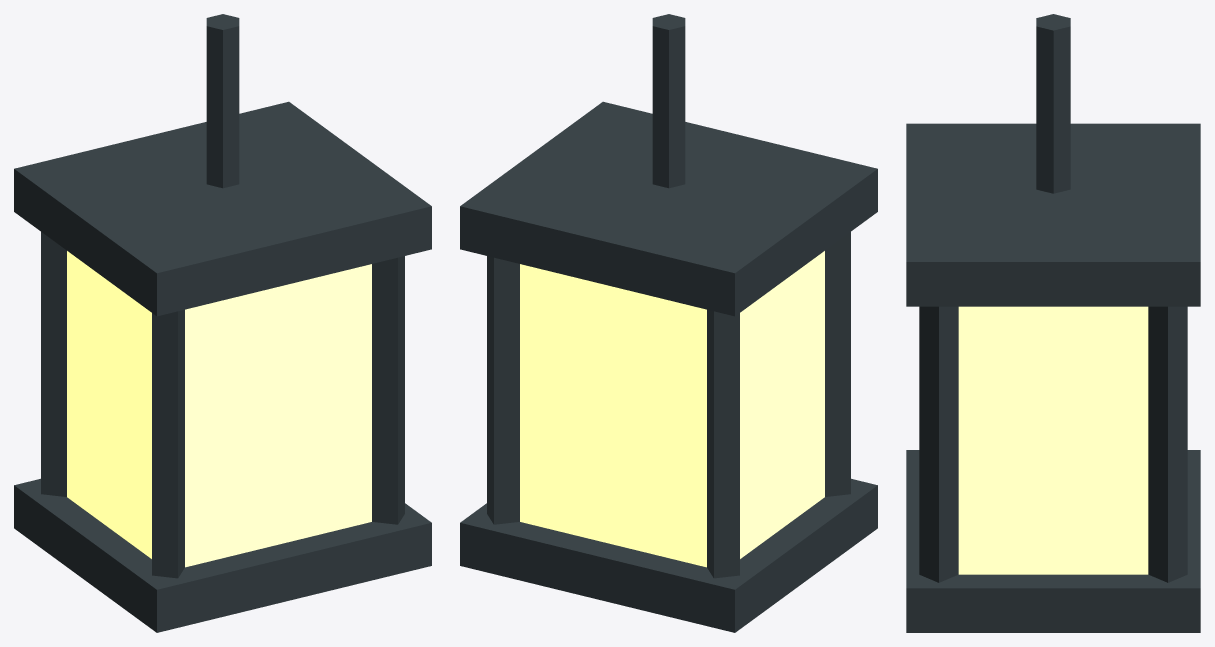
The model's file is NPC_Hand_04_Lantern.glb.
3 views of the same model, side by side, from view 1: azimuth 30°, elevation 25°; view 2: azimuth 150°, elevation 25°; view 3: azimuth 270°, elevation 25° (orthographic). The views are drawn at different scales.
Parts seen in each view (by area): view 1: NPC_Hand_04_Lantern; view 2: NPC_Hand_04_Lantern; view 3: NPC_Hand_04_Lantern.
Part boxes in pixels (x1,y1,x2,y2): NPC_Hand_04_Lantern: (14,14,431,632); NPC_Hand_04_Lantern: (460,14,877,632); NPC_Hand_04_Lantern: (906,14,1200,632).
Size of the model in its own units: 0.2 by 0.365 by 0.18.
